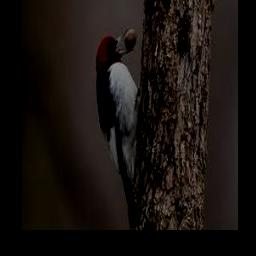Woodpecker: (96, 28, 140, 226)
